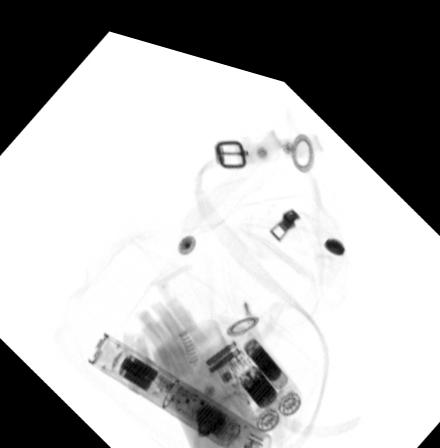Baton: (85, 321, 274, 448)
